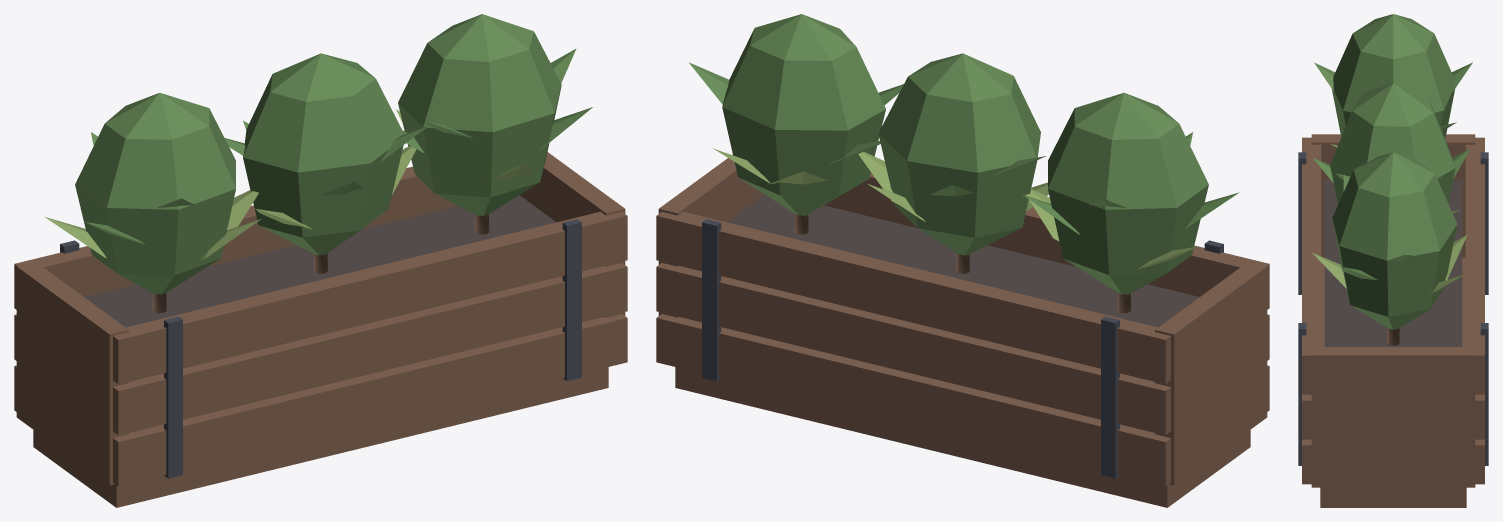
Rendered from SM_Cafe_Planter.fbx.
3 renders of one model, left to right at view 1: azimuth 30°, elevation 25°; view 2: azimuth 150°, elevation 25°; view 3: azimuth 270°, elevation 25°, orthographic. The views are drawn at different scales.
Visible parts, largest first — view 1: SM_Cafe_Planter; view 2: SM_Cafe_Planter; view 3: SM_Cafe_Planter.
Boxes of the visible parts, box(x1,y1,x2,y2) form: SM_Cafe_Planter: box(14, 14, 627, 507); SM_Cafe_Planter: box(656, 14, 1269, 507); SM_Cafe_Planter: box(1298, 14, 1488, 507).
Bounding box in the file's own units: 1.23 × 0.442 × 0.82.
